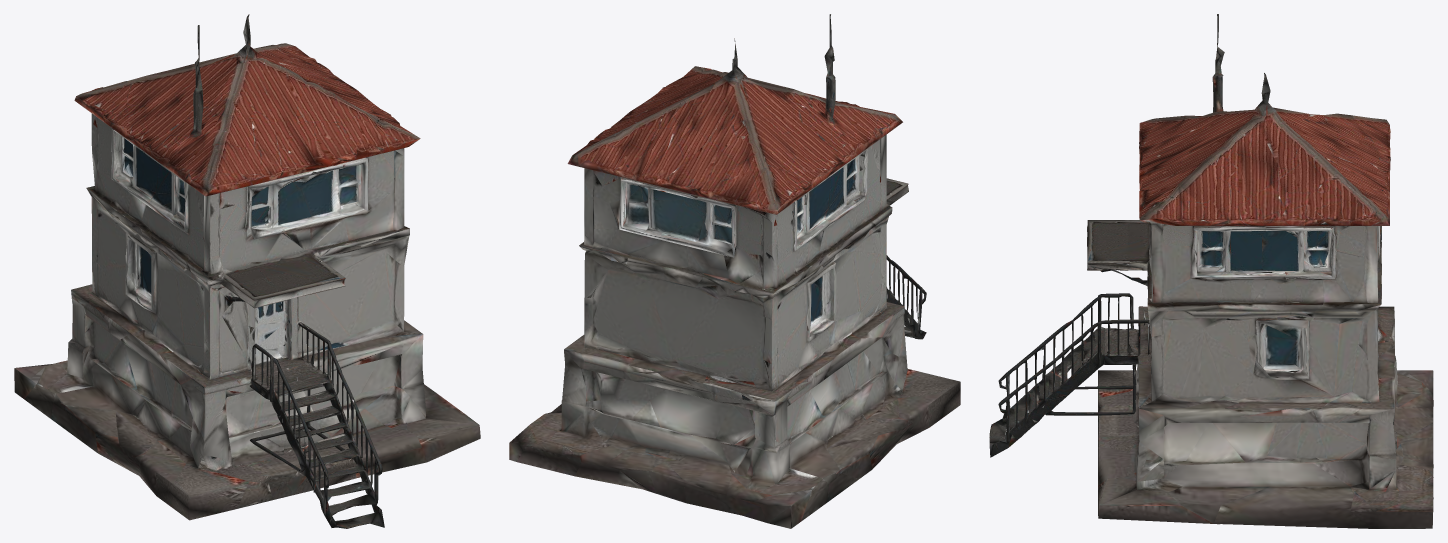
Rendered from vnTower.eecb9b00.glb.
The picture shows the model from 3 angles, left to right: view 1: azimuth 30°, elevation 25°; view 2: azimuth 150°, elevation 25°; view 3: azimuth 270°, elevation 25°; orthographic projection. The views are drawn at different scales.
Bounding box in the file's own units: 1.28 × 1.81 × 1.76.
Materials: 1 (1 with a texture image).
